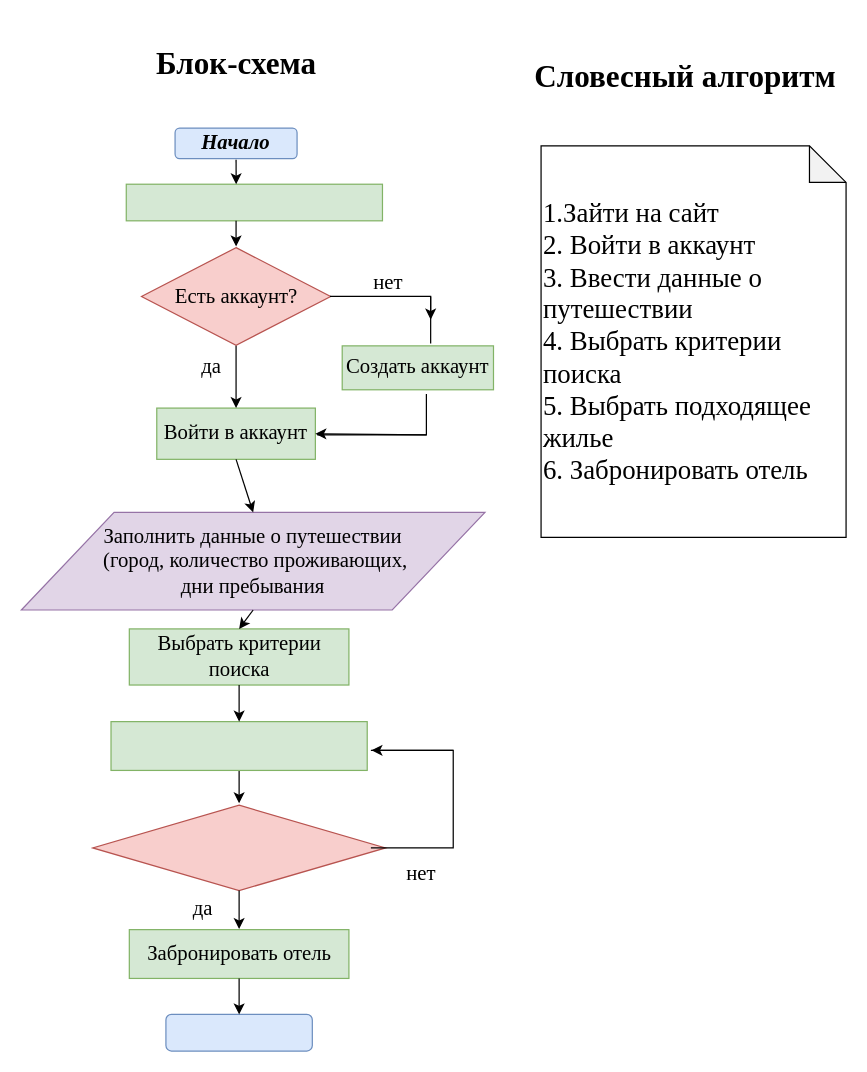
Image size: 867x1072. Some labels were removed from this diagram. The shapes that lost their labels are listed below. From the top down, each one's centre as x and y in pixels, then its label:
the point at 253,202: Открыть сайт Booking.com
the point at 238,745: Просмотр предложений и выбор отеля
the point at 239,847: Есть свободные номера?
the point at 238,1032: Конец
